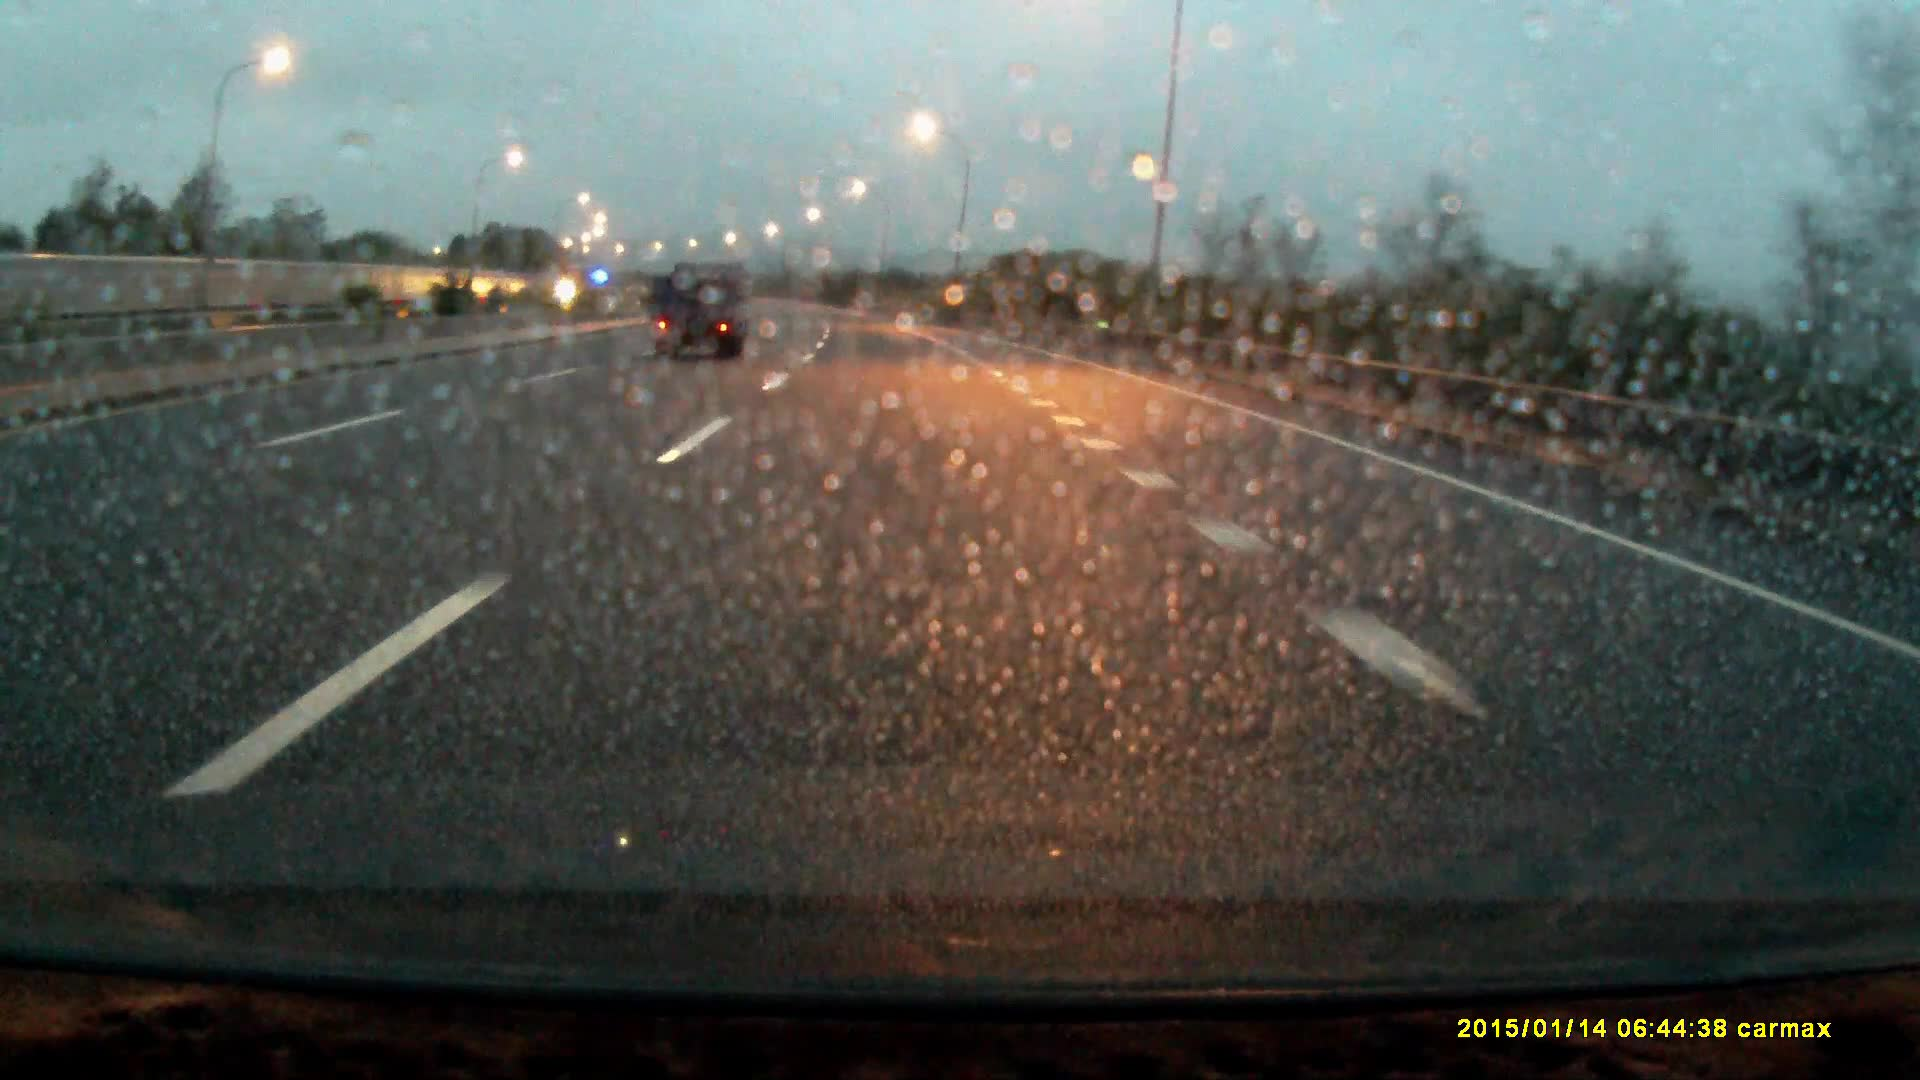vehicle: (653, 258, 752, 365)
